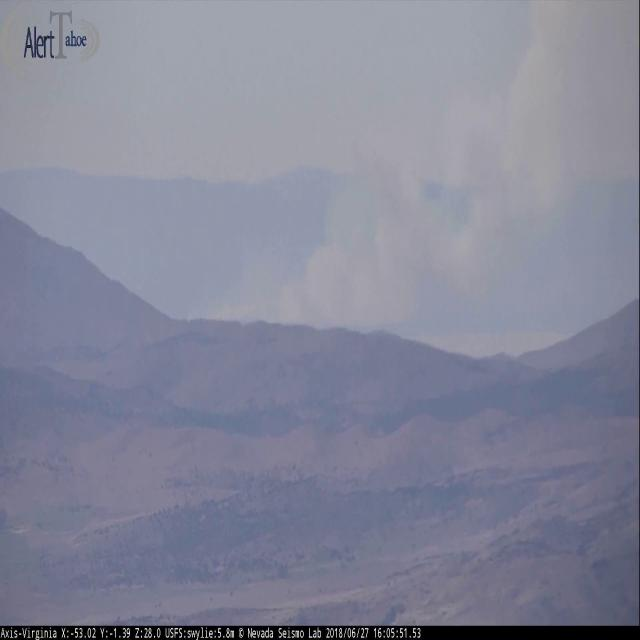smoke: (220, 0, 640, 343)
